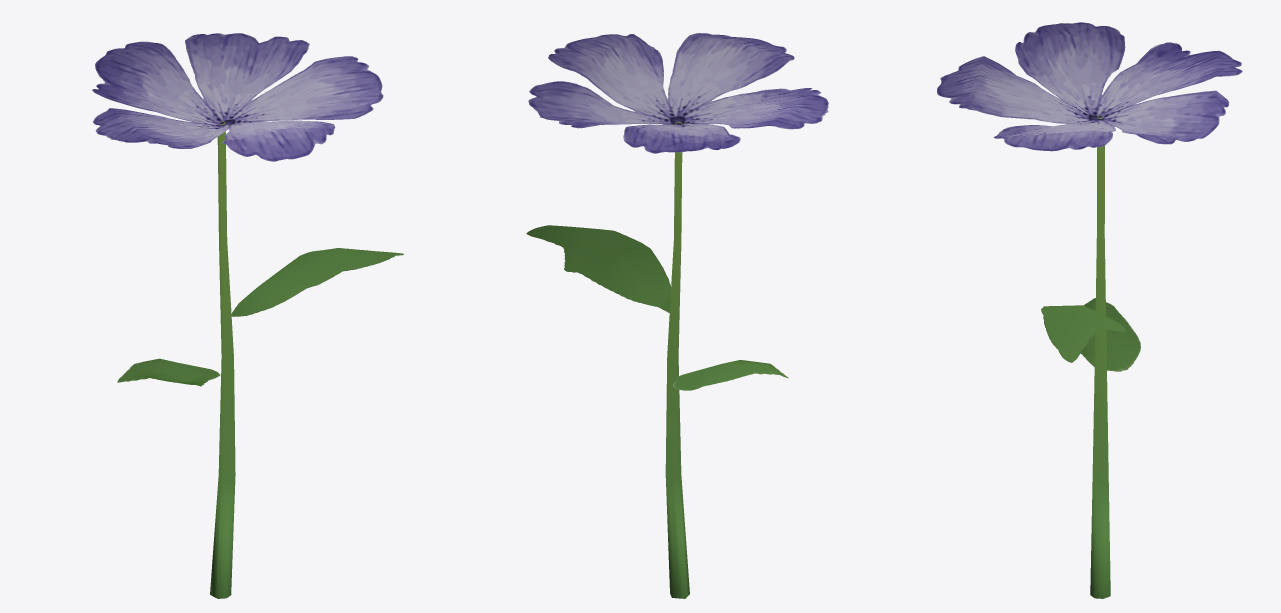
File: FlowerC_VAR.fbx
3 views of the same model, side by side, from view 1: azimuth 30°, elevation 25°; view 2: azimuth 150°, elevation 25°; view 3: azimuth 270°, elevation 25° (orthographic).
Parts seen in each view (by area): view 1: FlowerC_VARLOD0; view 2: FlowerC_VARLOD0; view 3: FlowerC_VARLOD0.
Part boxes in pixels (x1,y1,x2,y2): FlowerC_VARLOD0: (92,33,403,598); FlowerC_VARLOD0: (526,33,828,598); FlowerC_VARLOD0: (937,22,1242,598).
Size of what is drawn, in the model's own units: 37.8 by 53.54 by 31.48.
